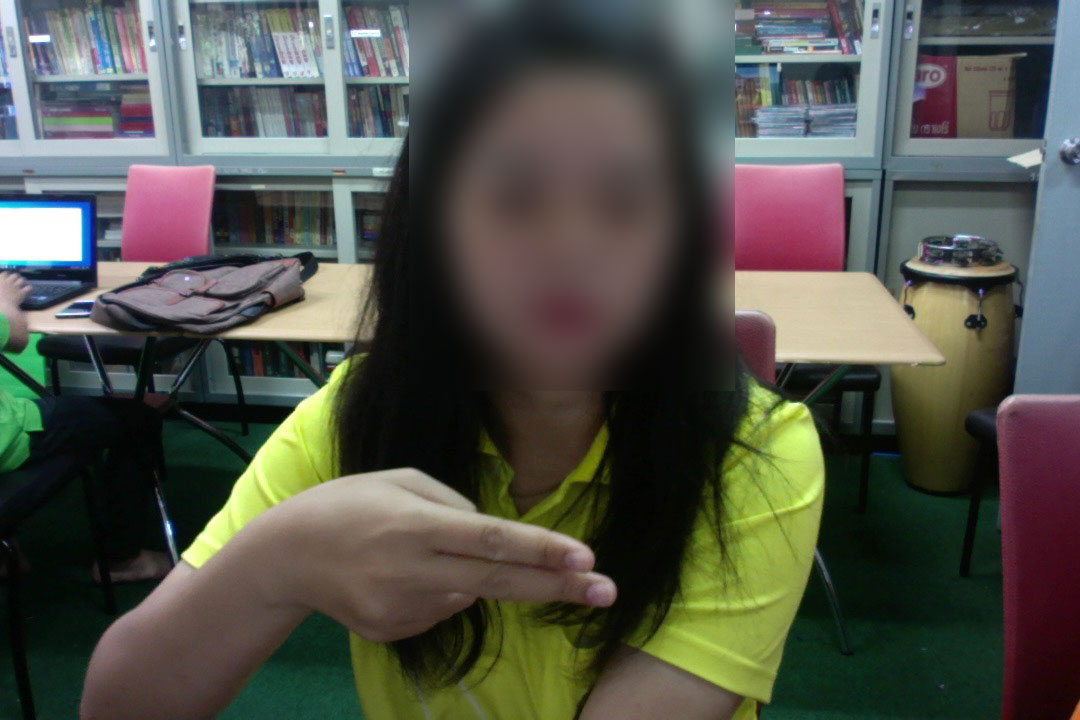hor: (277, 462, 621, 648)
